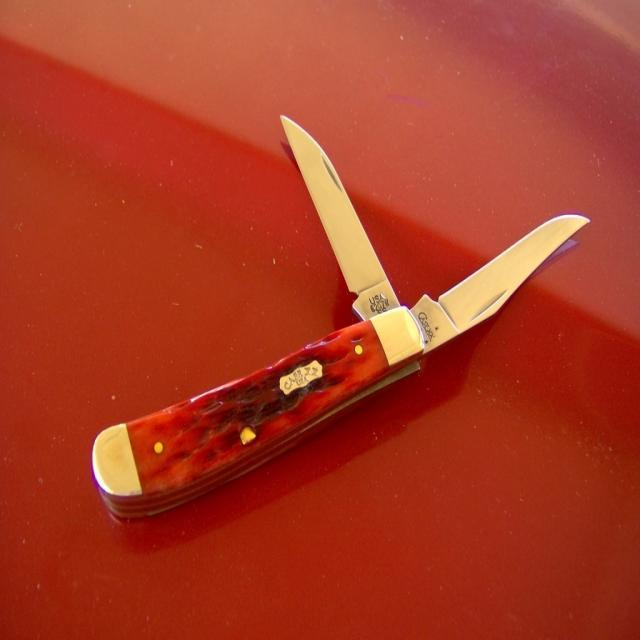Knife: (92, 118, 588, 517)
